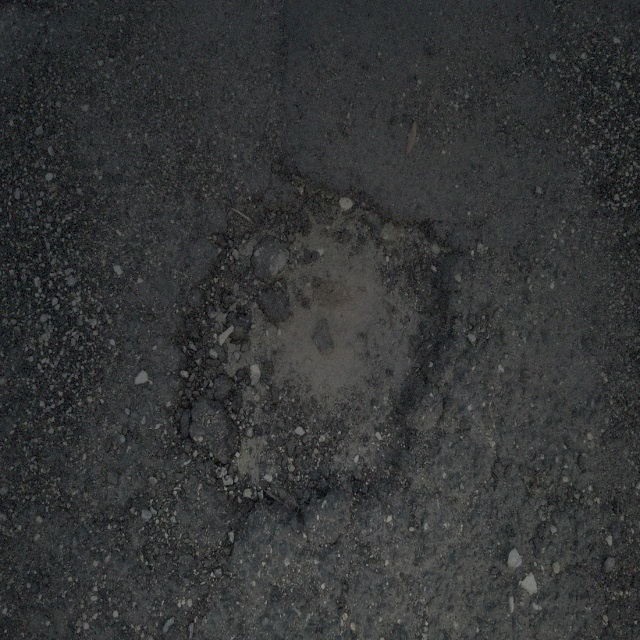pothole: (171, 146, 462, 536)
